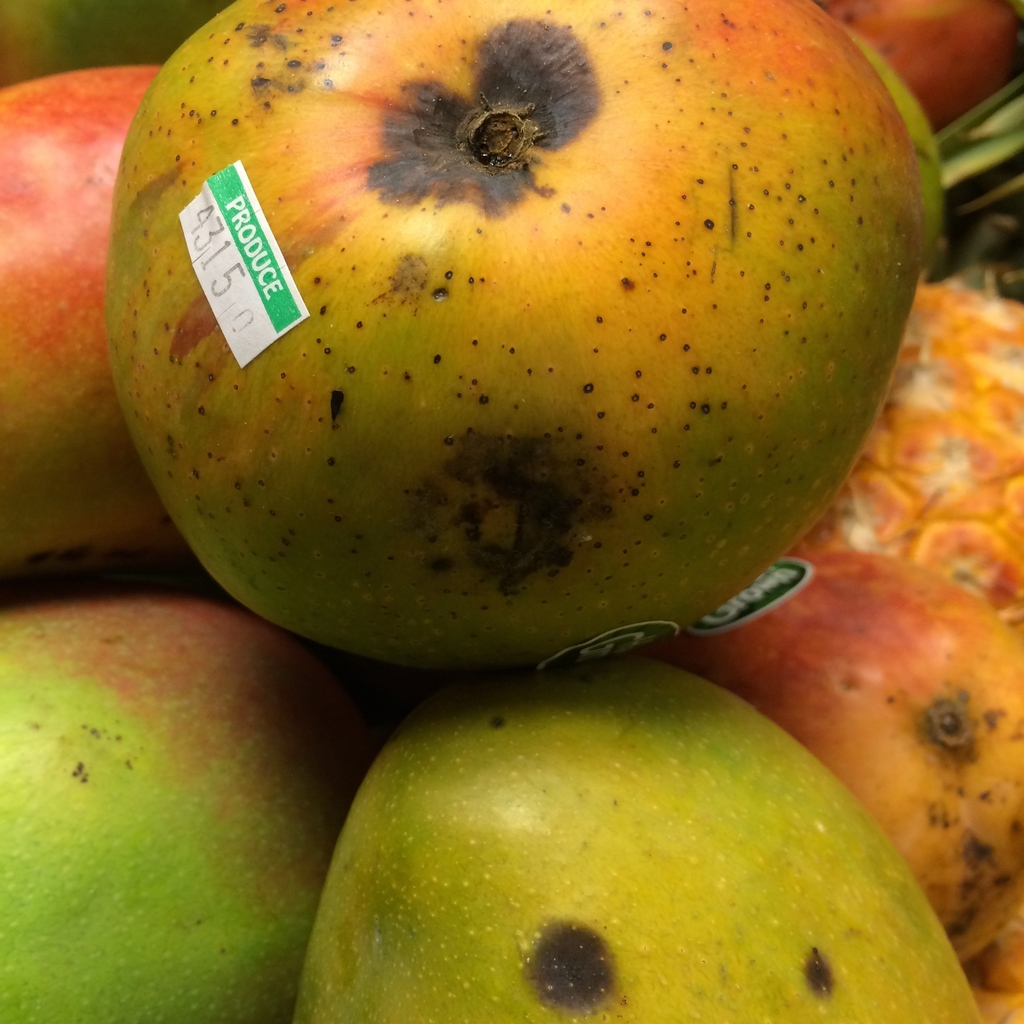Apple: (106, 0, 927, 673)
